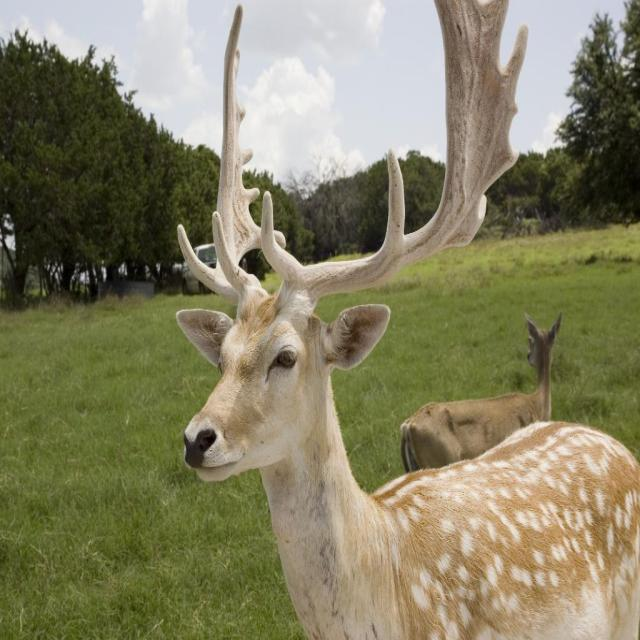Deer: (174, 0, 639, 639), (401, 314, 563, 469)
